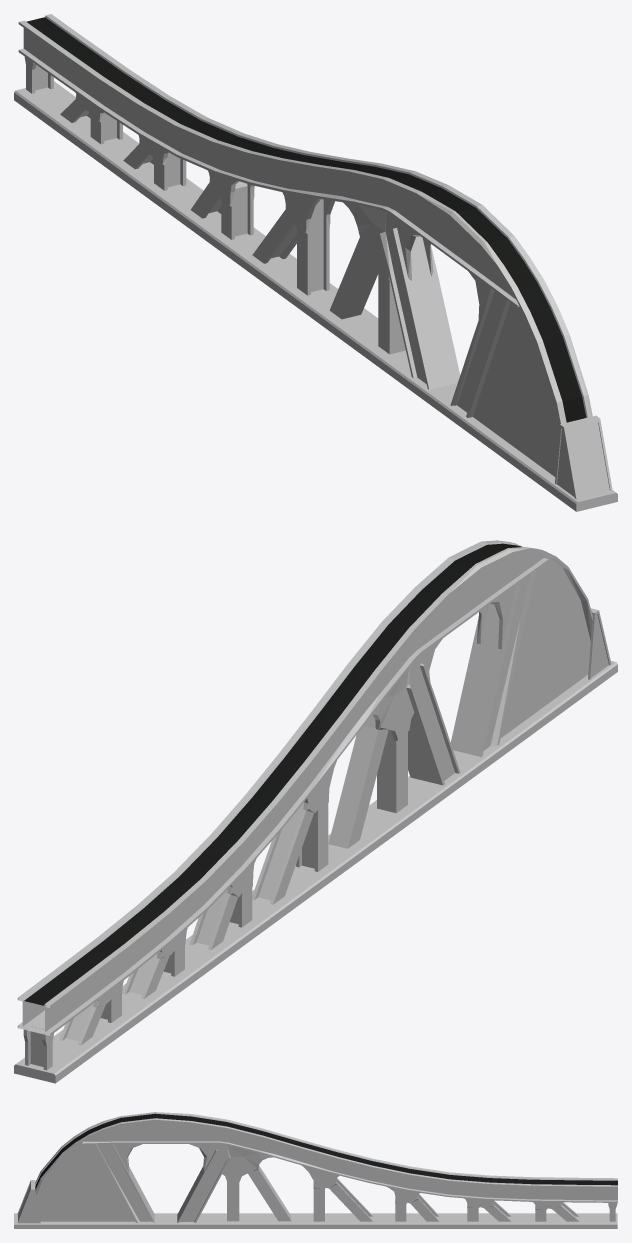
The model's file is Bridge_Suspension.fbx.
3 views of the same model, one above another, from view 1: azimuth 30°, elevation 25°; view 2: azimuth 150°, elevation 25°; view 3: azimuth 270°, elevation 25° (orthographic). The views are drawn at different scales.
Parts seen in each view (by area): view 1: SM_City_Bridge_Suspension_01.mo; view 2: SM_City_Bridge_Suspension_01.mo; view 3: SM_City_Bridge_Suspension_01.mo.
Boxes of the visible parts, <box> form: SM_City_Bridge_Suspension_01.mo: <box>14,14,617,511</box>; SM_City_Bridge_Suspension_01.mo: <box>14,540,617,1083</box>; SM_City_Bridge_Suspension_01.mo: <box>14,1112,617,1228</box>.
Bounding box in the file's own units: 81.09 × 376 × 1904.
